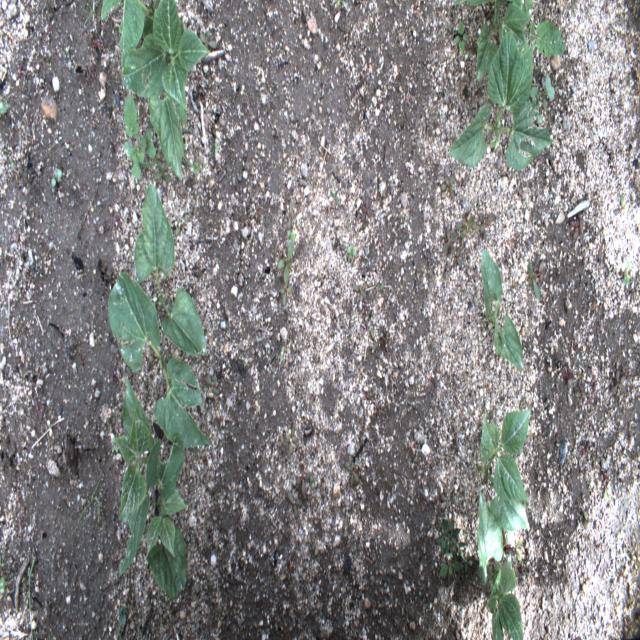crop: (108, 270, 213, 450), (122, 0, 210, 180), (447, 31, 553, 172), (134, 181, 206, 356), (114, 378, 155, 578), (476, 488, 523, 639), (146, 432, 187, 601), (476, 407, 532, 530), (451, 0, 532, 82), (480, 247, 524, 372), (100, 0, 175, 67)
weed: (511, 0, 567, 62), (122, 93, 158, 180), (436, 518, 474, 575), (529, 72, 555, 125), (77, 477, 101, 523), (180, 146, 208, 178), (526, 259, 546, 301), (438, 548, 464, 577), (277, 241, 294, 282), (344, 453, 362, 489), (506, 527, 523, 563), (295, 463, 313, 496), (570, 212, 586, 248), (28, 558, 35, 640), (199, 29, 218, 58), (81, 0, 100, 26), (155, 154, 172, 183), (139, 102, 155, 132), (611, 369, 627, 399), (616, 257, 632, 286), (351, 280, 368, 306), (454, 21, 468, 52), (280, 272, 292, 308), (287, 491, 302, 519), (442, 227, 457, 255), (454, 206, 471, 230), (612, 194, 626, 223), (478, 212, 496, 234), (441, 172, 456, 198), (360, 196, 374, 222), (460, 214, 475, 238), (205, 372, 220, 395), (174, 213, 188, 237), (286, 424, 297, 453), (451, 245, 464, 269), (504, 535, 512, 573), (125, 364, 138, 387), (49, 168, 63, 189), (285, 201, 295, 228), (582, 507, 594, 529), (0, 552, 6, 594), (294, 484, 308, 501), (479, 212, 487, 241), (374, 279, 385, 300), (584, 39, 594, 62), (0, 100, 12, 118), (164, 296, 177, 312), (335, 0, 350, 13), (563, 369, 574, 386), (92, 503, 102, 521), (370, 328, 378, 349), (346, 244, 357, 259), (86, 62, 95, 80), (118, 606, 126, 626), (329, 188, 338, 205), (285, 226, 295, 241), (591, 452, 600, 468), (602, 486, 611, 502), (470, 220, 480, 234), (150, 147, 160, 160), (112, 436, 119, 454), (114, 624, 122, 639), (575, 390, 587, 400), (308, 474, 315, 490), (109, 368, 117, 382), (280, 346, 286, 364), (632, 550, 640, 562), (97, 509, 102, 525), (9, 156, 15, 169), (403, 212, 408, 222), (215, 140, 218, 153), (244, 361, 249, 367)
